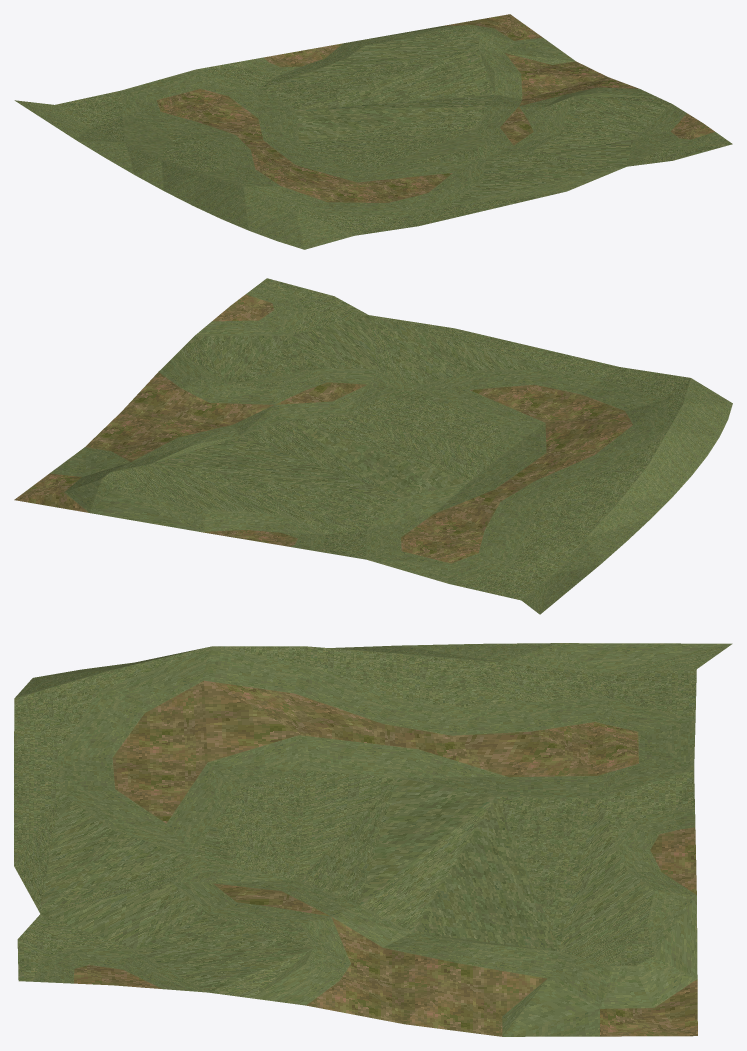
File: lod_se_bit_23.obj
The picture shows the model from 3 angles, top to bottom: view 1: azimuth 30°, elevation 25°; view 2: azimuth 150°, elevation 25°; view 3: azimuth 270°, elevation 25°; orthographic projection. The views are drawn at different scales.
Visible parts, largest first — view 1: lod_se_bit_23; view 2: lod_se_bit_23; view 3: lod_se_bit_23.
Boxes of the visible parts, box(x1,y1,x2,y2) form: lod_se_bit_23: box(14, 14, 732, 249); lod_se_bit_23: box(14, 278, 732, 614); lod_se_bit_23: box(14, 643, 732, 1036).
Size of the model in its own units: 184 by 17.98 by 156.
4 materials, 4 textured.
